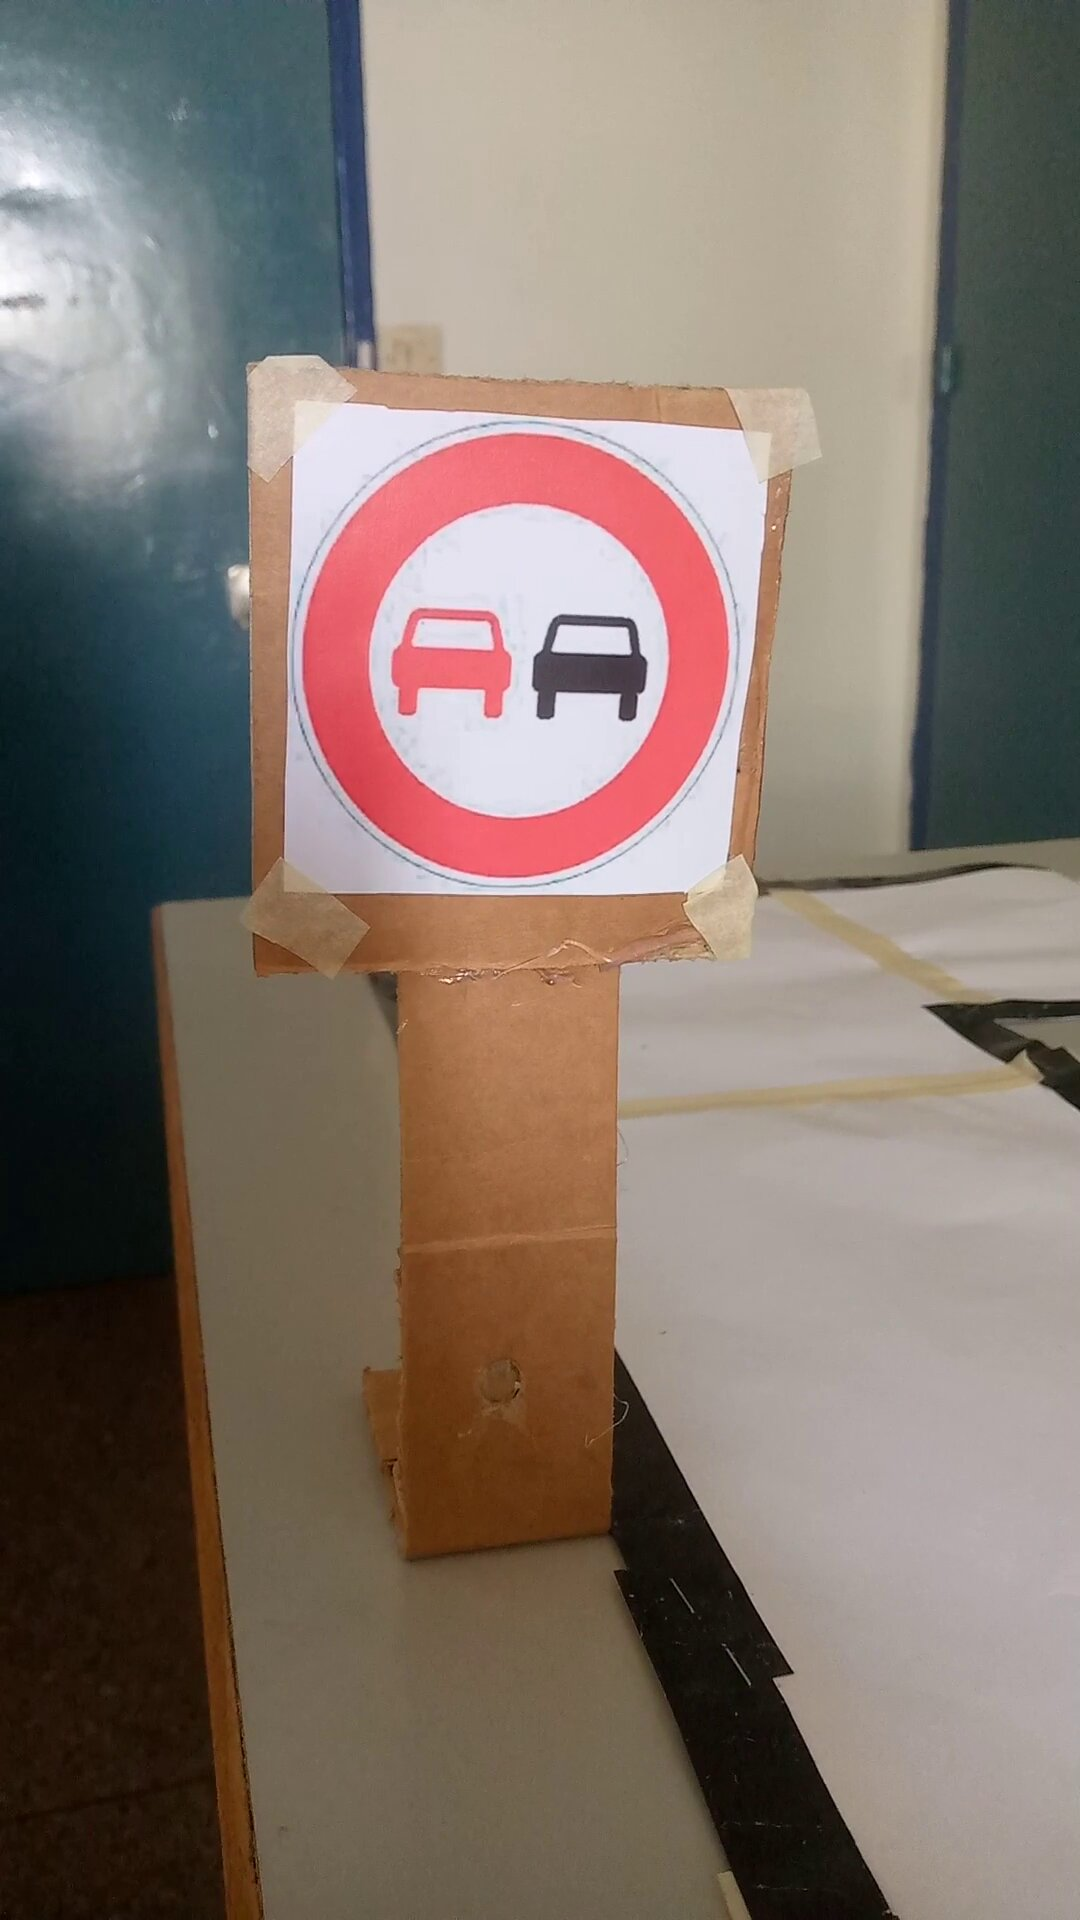panel100: (287, 414, 741, 909)
